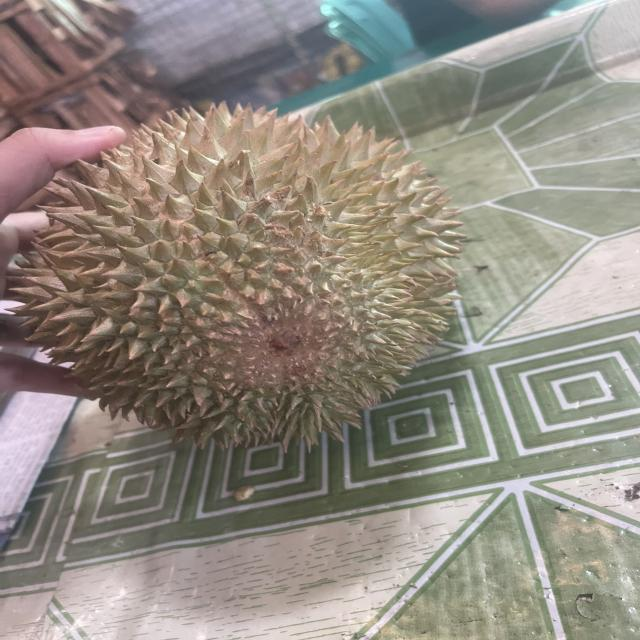mature: (20, 84, 488, 462)
